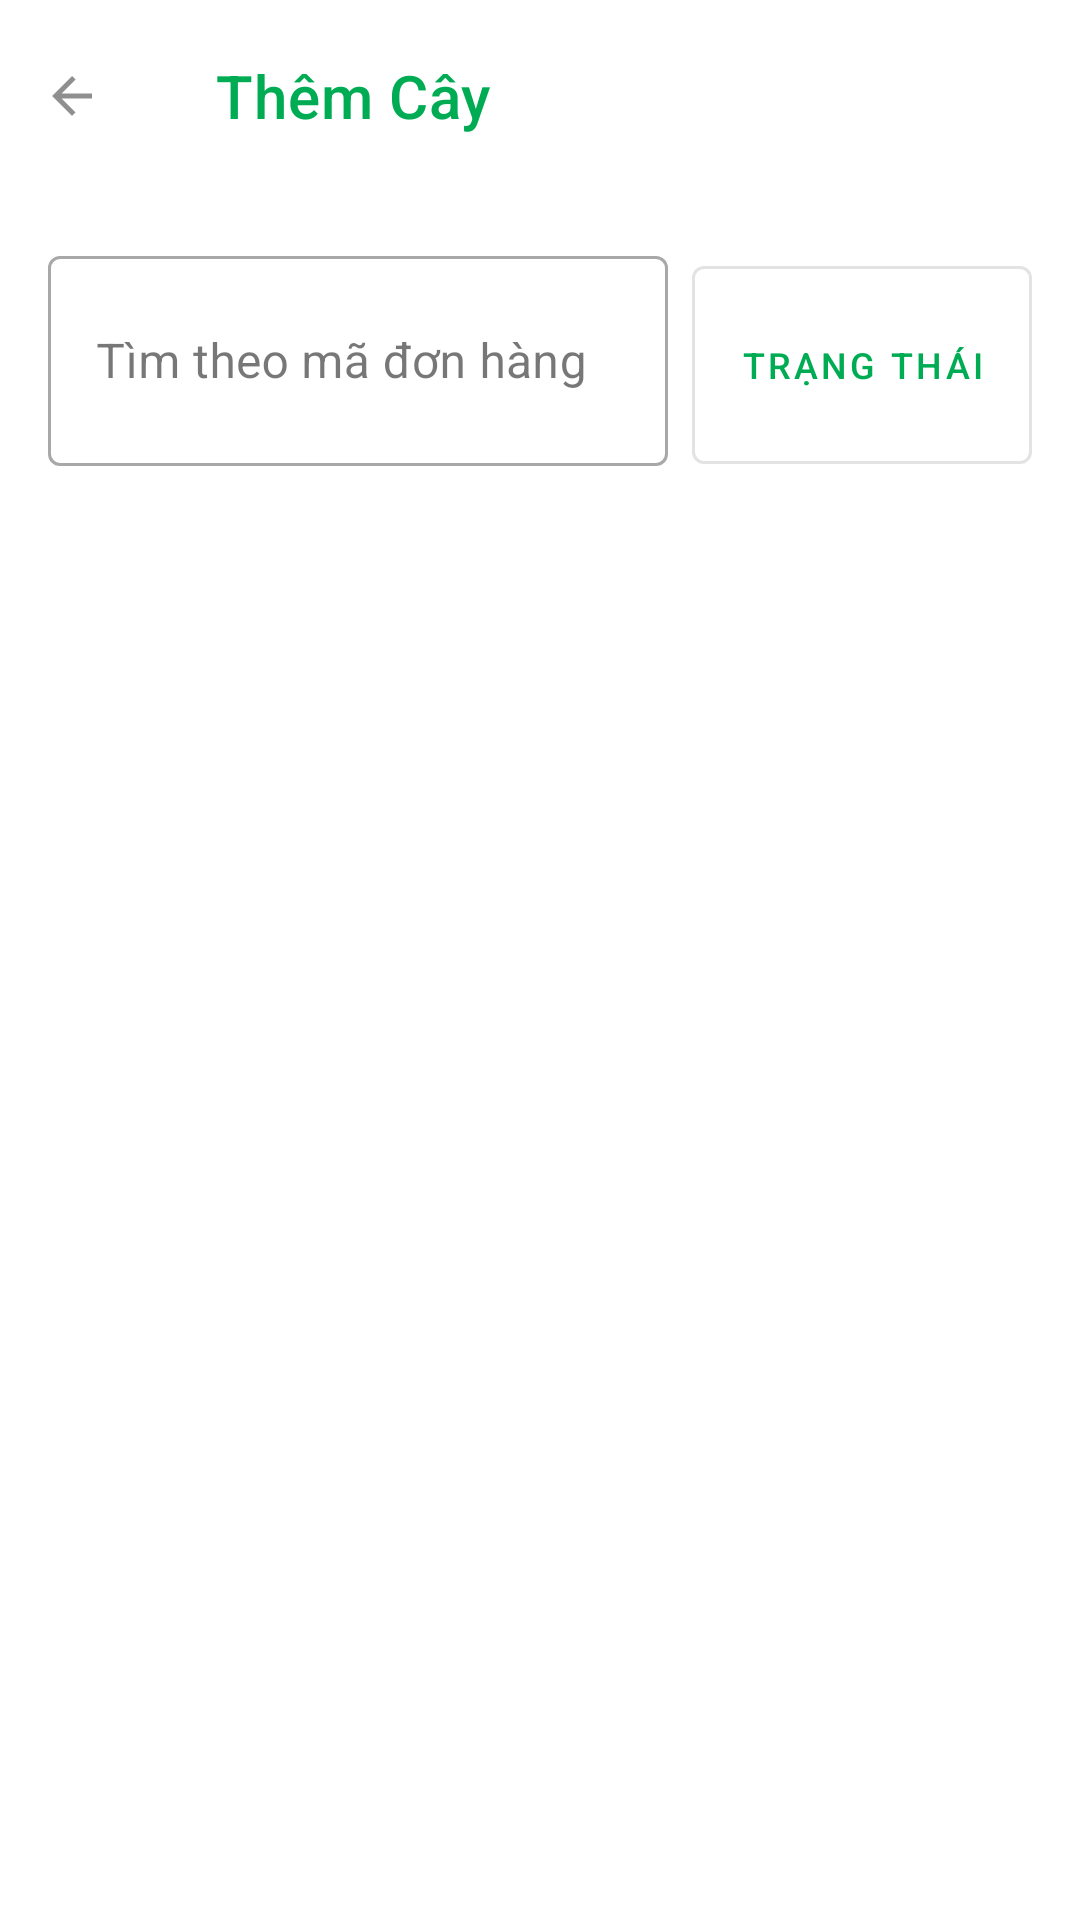

Icon bounding boxes for this 1080 x 1920 phone screenshot, format bbox=[x1, y1, x2, y2]:
back arrow: bbox=[52, 76, 92, 116]
